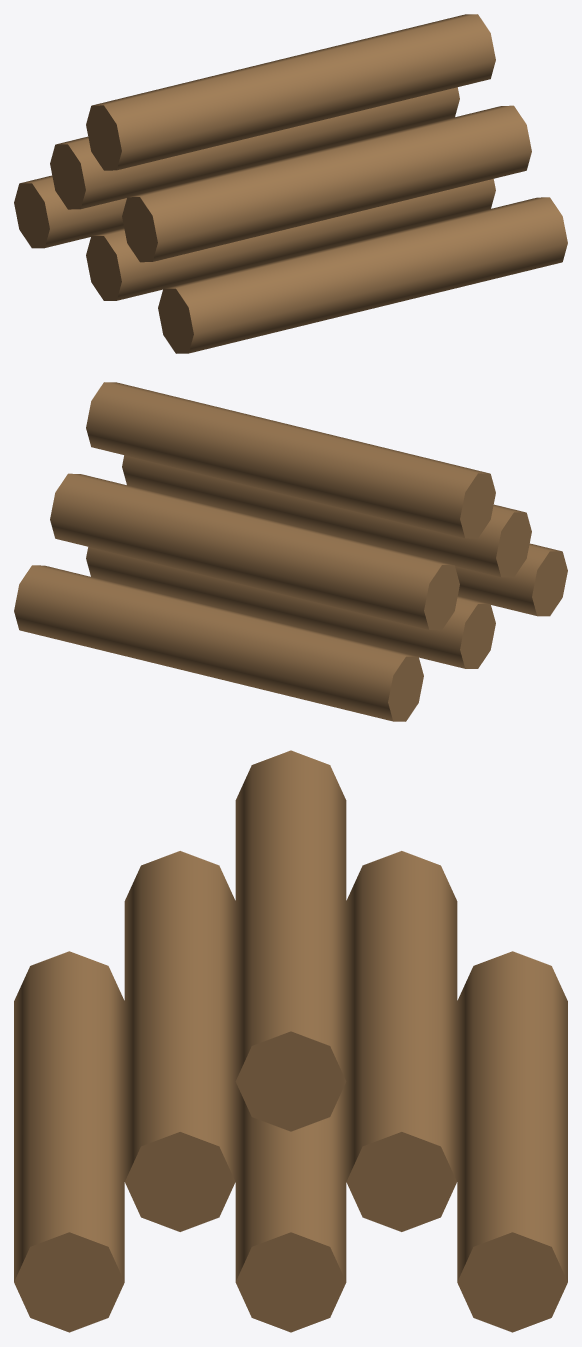
3 renders of one model, top to bottom at view 1: azimuth 30°, elevation 25°; view 2: azimuth 150°, elevation 25°; view 3: azimuth 270°, elevation 25°, orthographic. The views are drawn at different scales.
Visible parts, largest first — view 1: woodpile-a@1.0.0; view 2: woodpile-a@1.0.0; view 3: woodpile-a@1.0.0.
Part boxes in pixels (x1,y1,x2,y2): woodpile-a@1.0.0: [14, 14, 567, 353]; woodpile-a@1.0.0: [14, 382, 567, 721]; woodpile-a@1.0.0: [14, 750, 567, 1332].
Bounding box in the file's own units: 1.5 × 0.75 × 1.25.
